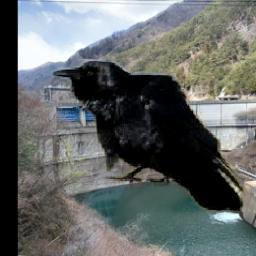Crow: (51, 59, 247, 213)
